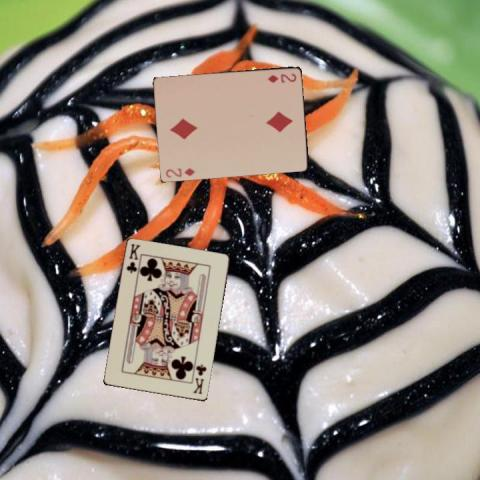2d: (162, 164, 196, 178), (265, 70, 298, 84)
Kc: (124, 241, 142, 275), (191, 362, 208, 396)
